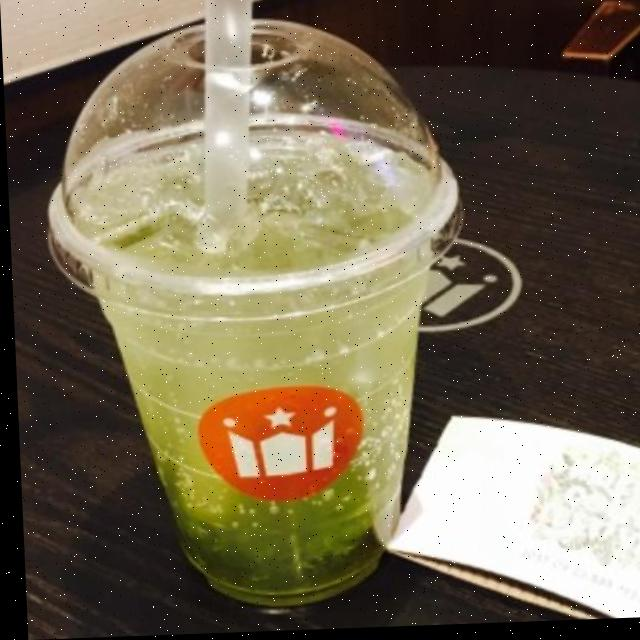cup: (98, 273, 425, 608)
